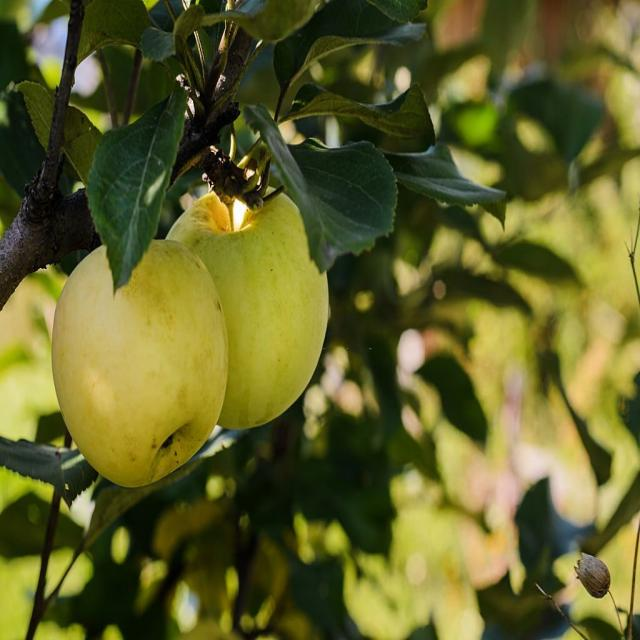Green Apple: (47, 245, 234, 480), (173, 178, 336, 429)
